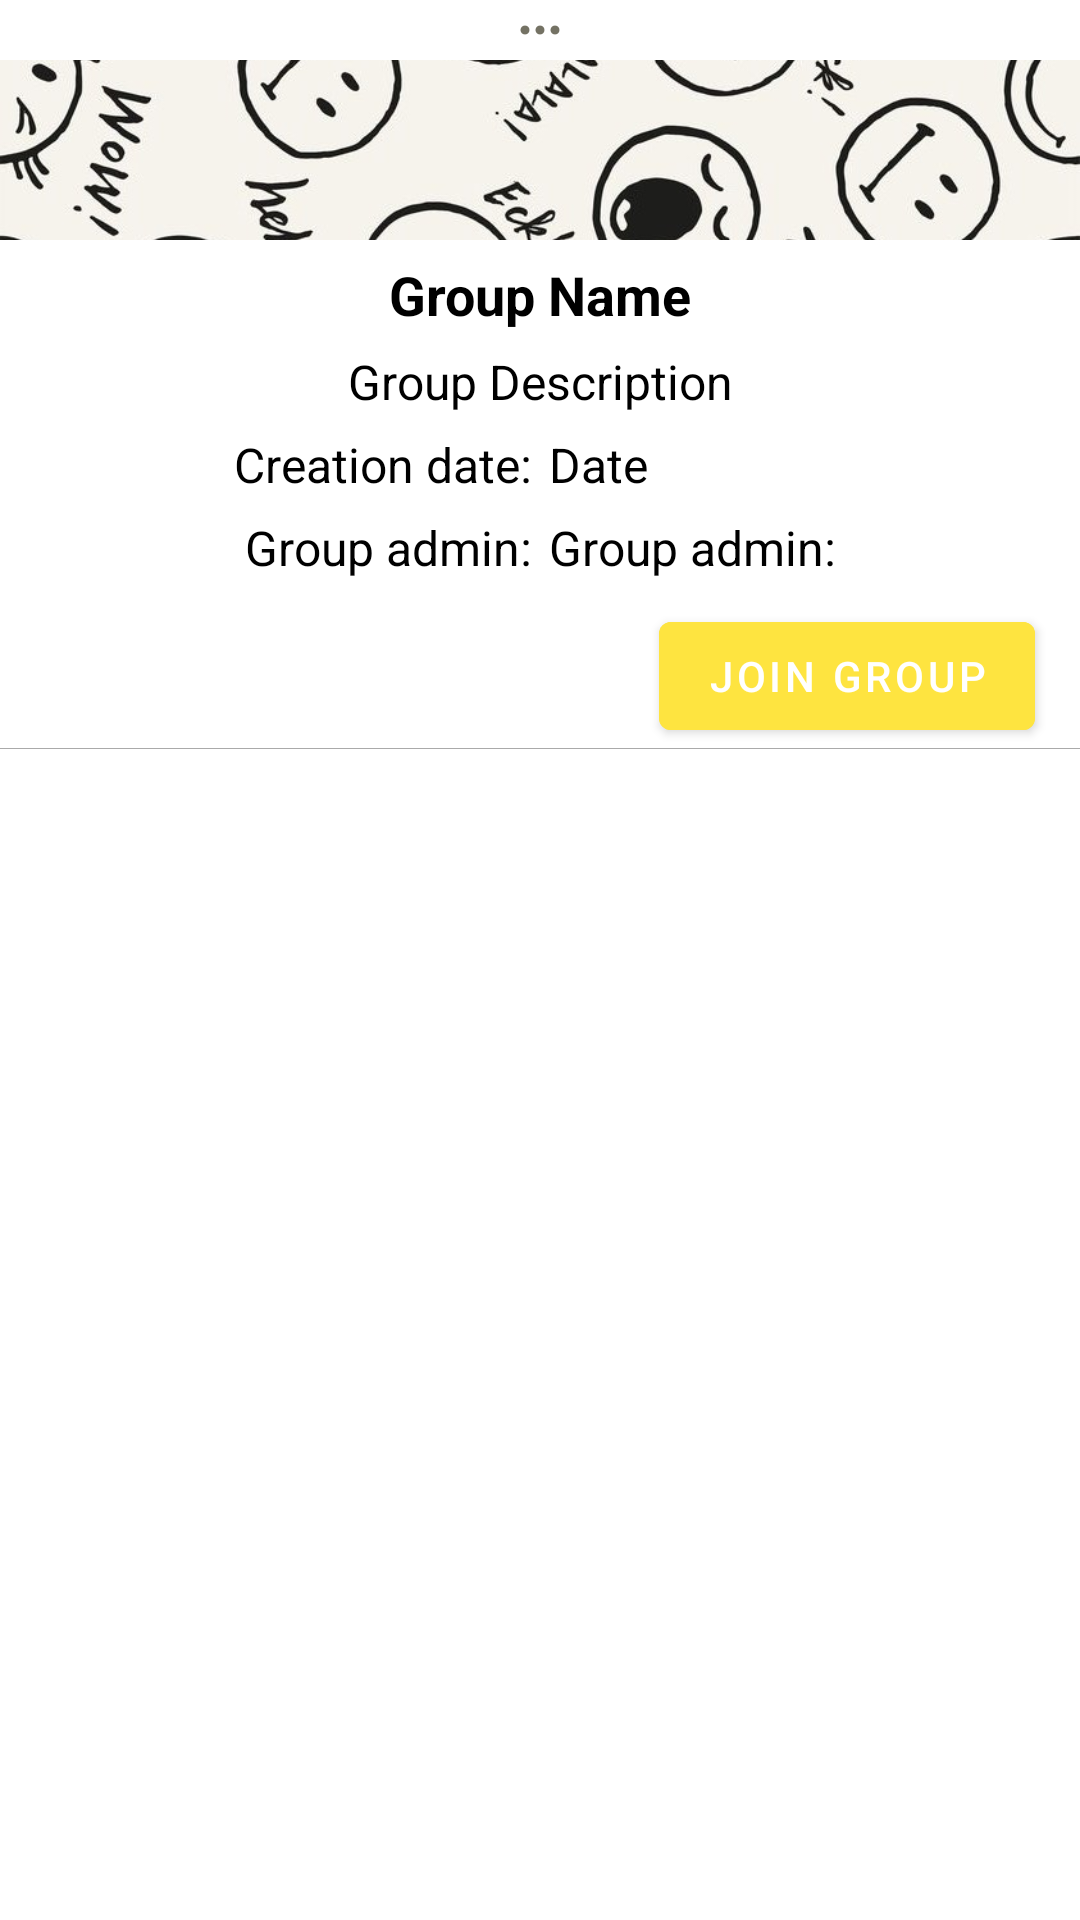

Point at icon controls on the screen. Image size 1080px x 1920px, points as [x,y].
More options: [540,30]
